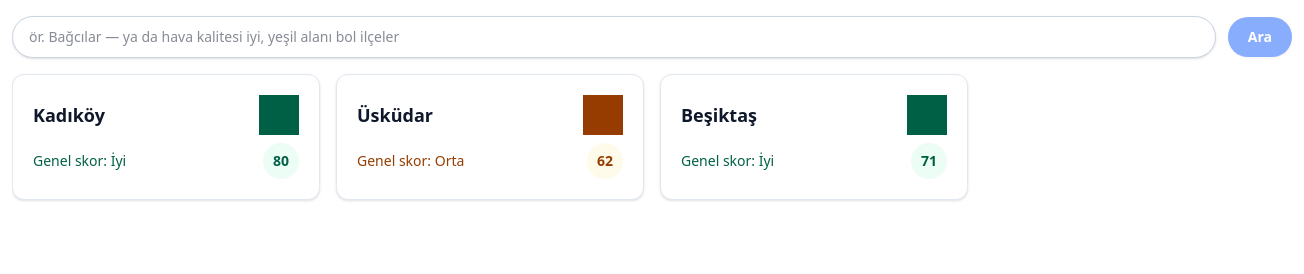
Test case: NeighborhoodSearchableList › keeps showing every district when the search couldn't be understood, alongside the honest status message
Replace the text in the field named "İlçe ara" with "en ucuz ilçeler" at (614, 37), box left=12, top=16, right=1216, bottom=58
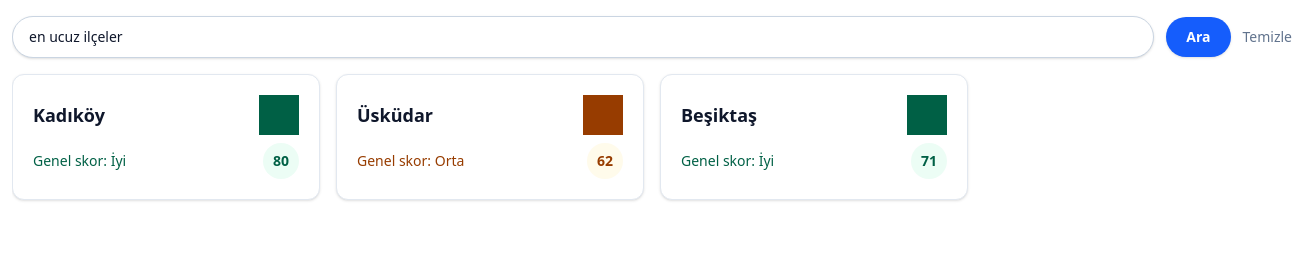
Click the button "Ara" at (1198, 37), box left=1166, top=17, right=1230, bottom=57
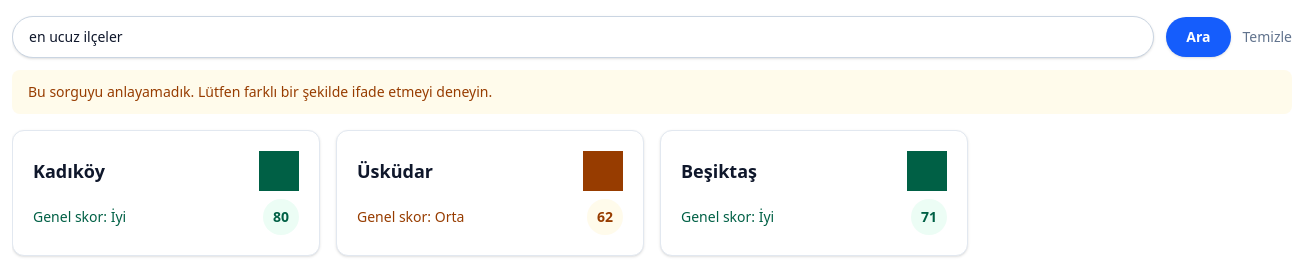
Check: the text "Kadıköy" is shown, box left=33, top=157, right=105, bottom=185
Check: the text "Bu sorguyu anlayamadık. Lütfen farklı bir şekilde ifade etmeyi deneyin." is shown, box left=12, top=70, right=1292, bottom=114
